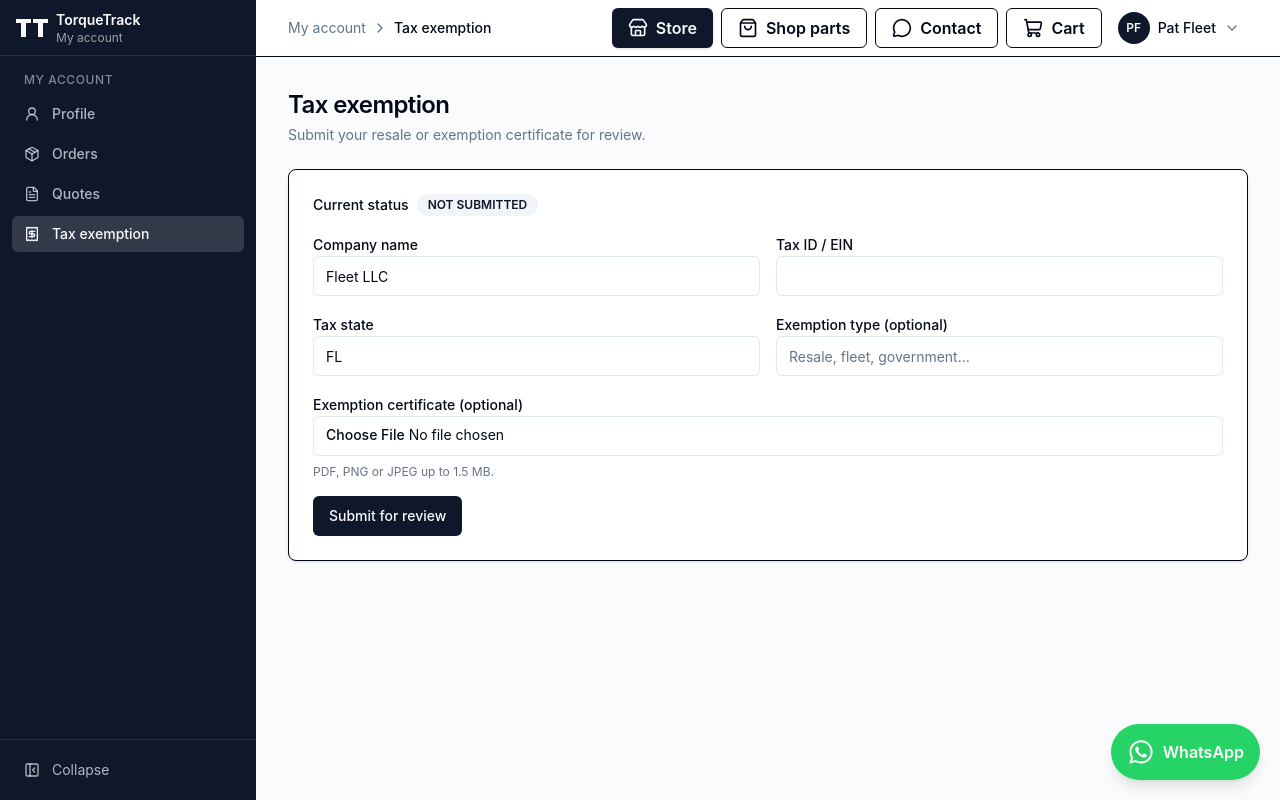
TaxExemptionForm › shows the backend error
Step 1. Type "12-3456789" into the field labelled "Tax ID / EIN" → (1000, 276), box [776,256,1223,296]
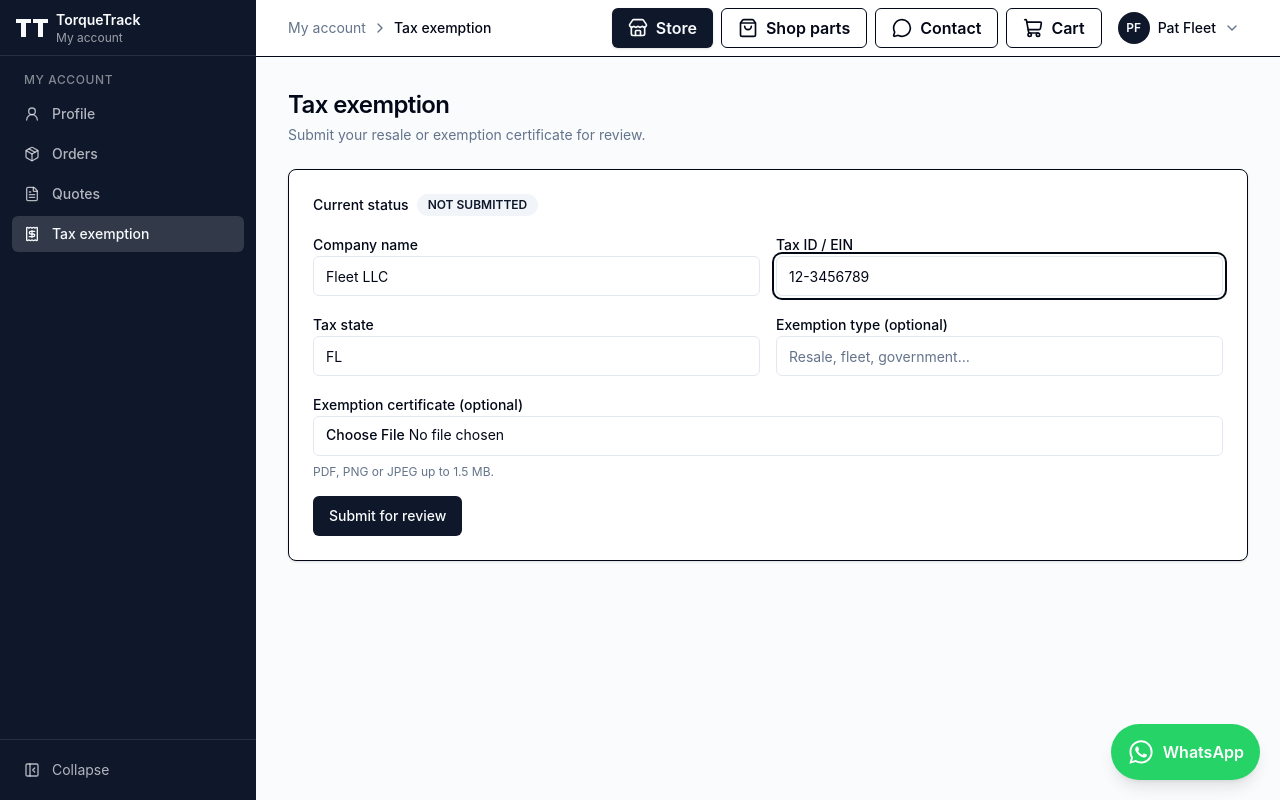
Step 2. Replace the text in the field labelled "Tax state" with "fl" → (536, 356), box [313,336,760,376]
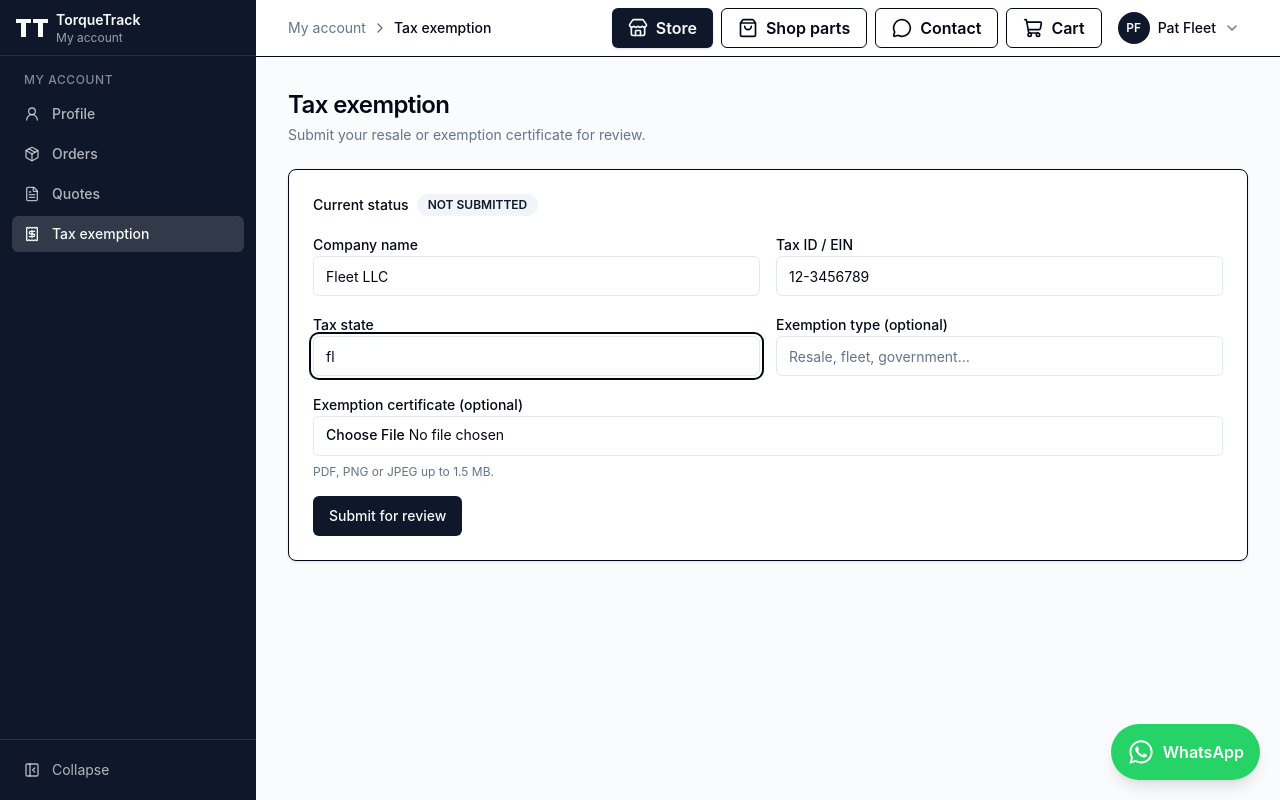
Step 3. Click the button "Submit for review" → (388, 516), box [313,496,462,536]
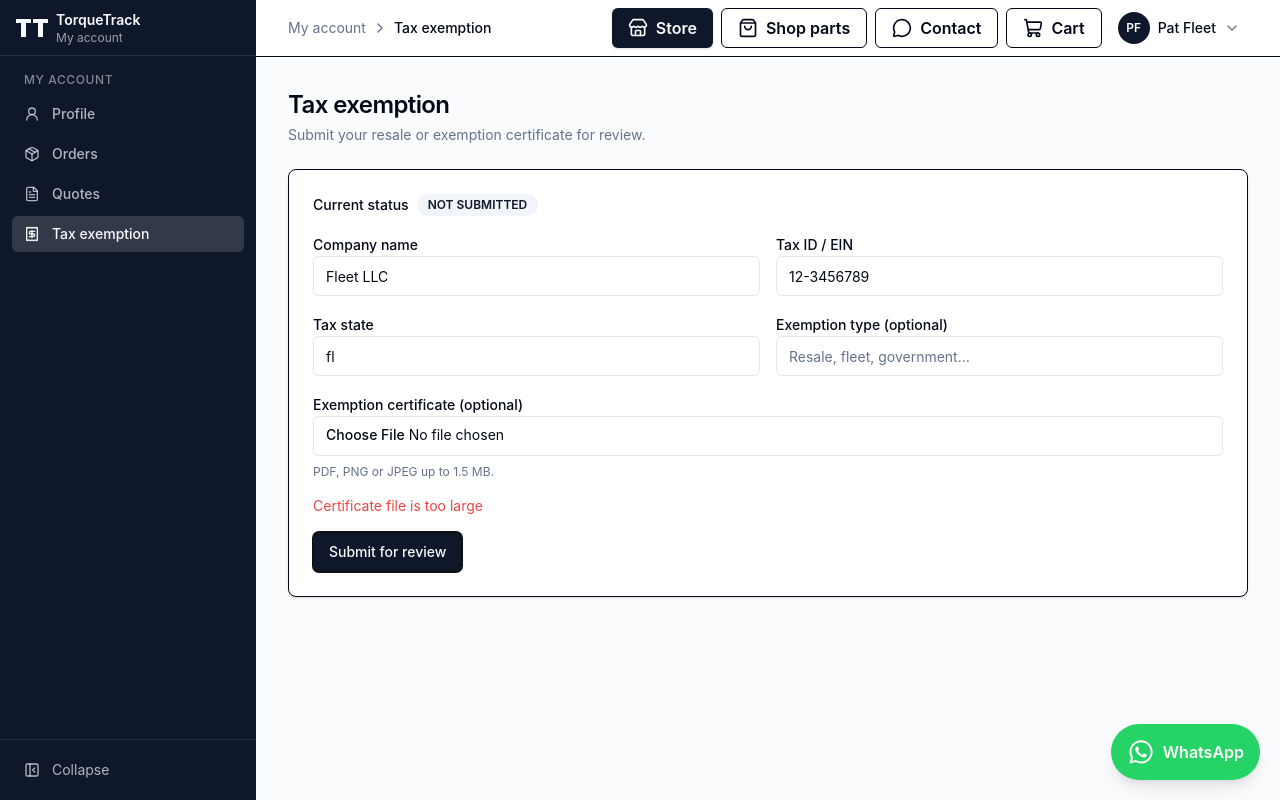
Expected: the text "Certificate file is too large" is shown, [313,497,483,514]
